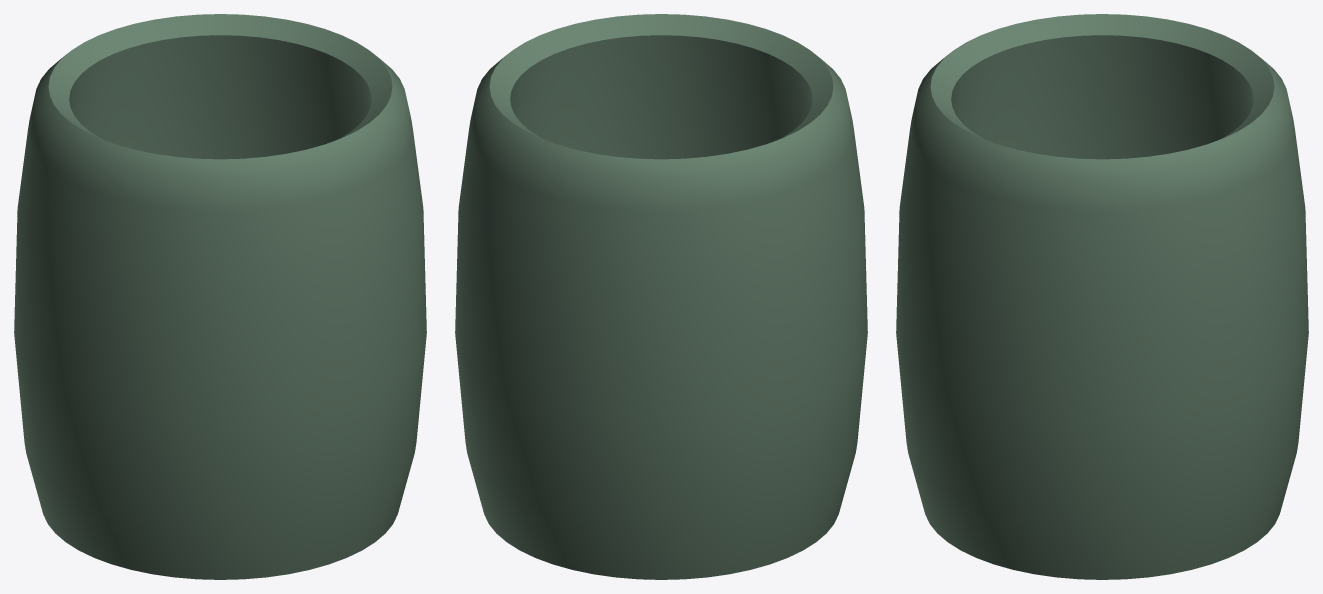
The model's file is 12_brush_jar.fbx.
The picture shows the model from 3 angles, left to right: view 1: azimuth 30°, elevation 25°; view 2: azimuth 150°, elevation 25°; view 3: azimuth 270°, elevation 25°; orthographic projection.
Parts seen in each view (by area): view 1: BrushJar; view 2: BrushJar; view 3: BrushJar.
Part boxes in pixels (bbox=[...]): BrushJar: bbox=[14, 14, 426, 579]; BrushJar: bbox=[455, 14, 867, 579]; BrushJar: bbox=[896, 14, 1308, 579].
Bounding box in the file's own units: 0.12 × 0.134 × 0.12.
Materials: 1 (1 with a texture image).
